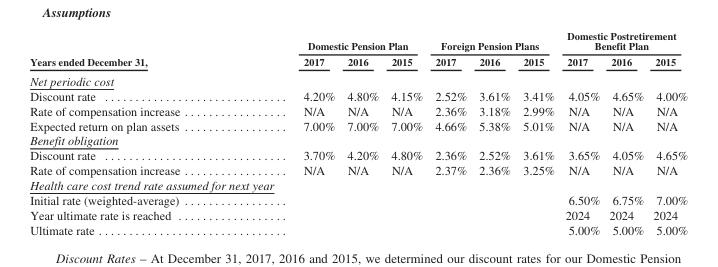table: (29, 29, 687, 236)
table column: (29, 29, 241, 236), (241, 29, 340, 236), (559, 29, 604, 236), (340, 29, 384, 236), (384, 29, 428, 236), (428, 29, 472, 236), (472, 29, 516, 236), (516, 29, 559, 236), (604, 29, 647, 236), (647, 29, 687, 236)
table column header: (29, 29, 687, 70)
table projected row header: (29, 70, 687, 88), (29, 132, 687, 147), (29, 177, 687, 192)
table row: (29, 29, 687, 53), (29, 70, 687, 88), (29, 53, 687, 70), (29, 88, 687, 103), (29, 117, 687, 132), (29, 132, 687, 147), (29, 147, 687, 162), (29, 162, 687, 177), (29, 177, 687, 192), (29, 192, 687, 207), (29, 221, 687, 236), (29, 103, 687, 117), (29, 207, 687, 221)
table spanning cell: (29, 29, 241, 70), (241, 29, 428, 53), (428, 29, 559, 53), (559, 29, 687, 53)
